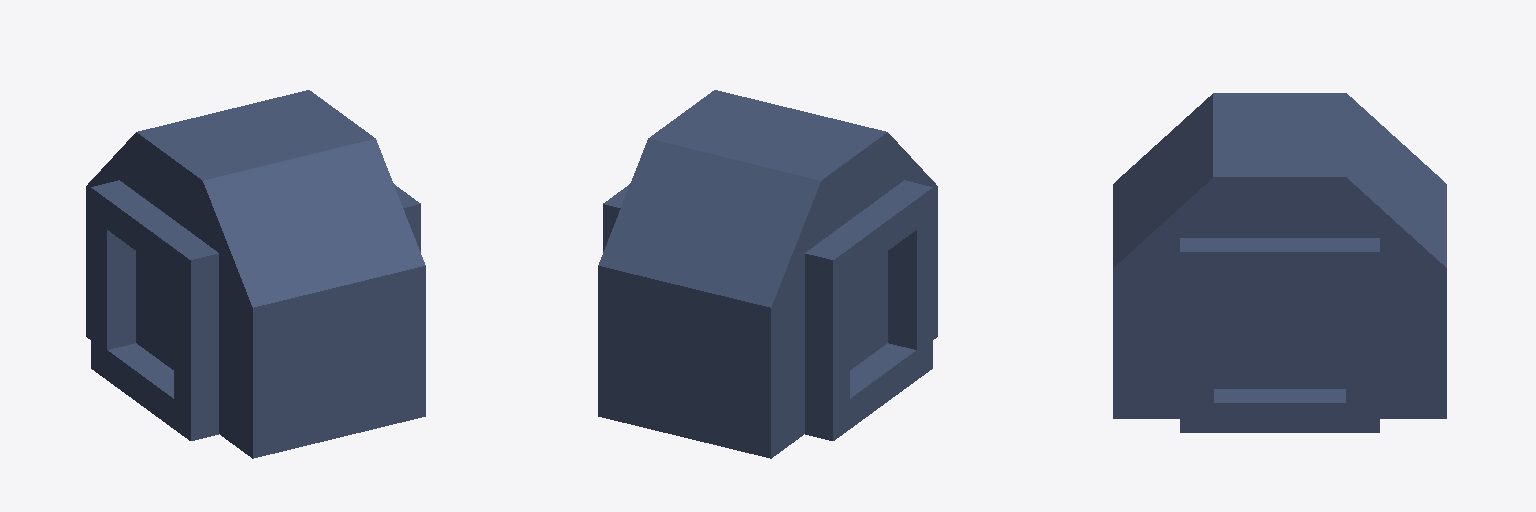
3 views of the same model, side by side, from view 1: azimuth 30°, elevation 25°; view 2: azimuth 150°, elevation 25°; view 3: azimuth 270°, elevation 25° (orthographic).
Visible parts, largest first — view 1: DOUBLE; view 2: DOUBLE; view 3: DOUBLE.
Part boxes in pixels (bbox=[...]): DOUBLE: bbox=[86, 90, 425, 458]; DOUBLE: bbox=[598, 90, 937, 458]; DOUBLE: bbox=[1113, 93, 1446, 432].
Size of the model in its own units: 0.5 by 0.5 by 0.625.
Materials: 1 (1 with a texture image).